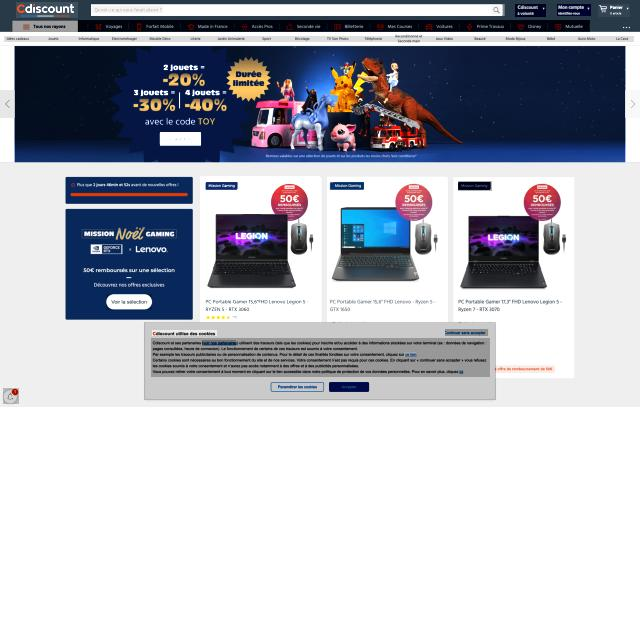CheckBox: (106, 294, 152, 310), (160, 132, 201, 146), (270, 382, 324, 392), (329, 382, 369, 392), (446, 329, 490, 336), (3, 388, 19, 404), (202, 340, 236, 346), (404, 352, 416, 357), (459, 370, 463, 374)
CheckedTextView: (92, 4, 506, 16)
Input field: (151, 338, 490, 377)
RadioButton: (458, 181, 492, 191), (205, 182, 238, 190), (332, 182, 364, 190), (12, 388, 18, 395)
Spinner: (200, 176, 320, 322), (328, 177, 448, 321)
Switch: (0, 46, 640, 162)
alert: (598, 4, 630, 17), (557, 4, 591, 16), (515, 4, 546, 17)
breadcrumbs: (152, 331, 217, 336)
carousel: (492, 6, 500, 14), (7, 393, 14, 401)
data feed: (164, 136, 196, 142)
date picker: (16, 2, 78, 18)
decoration: (12, 20, 590, 32), (4, 36, 634, 42), (13, 20, 79, 32), (0, 90, 15, 118), (625, 90, 640, 118)
footer: (93, 6, 163, 13)
header: (144, 322, 496, 400)
